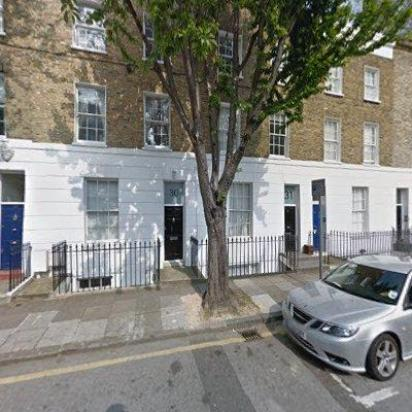stationary-car-onstreet: (282, 252, 410, 380)
